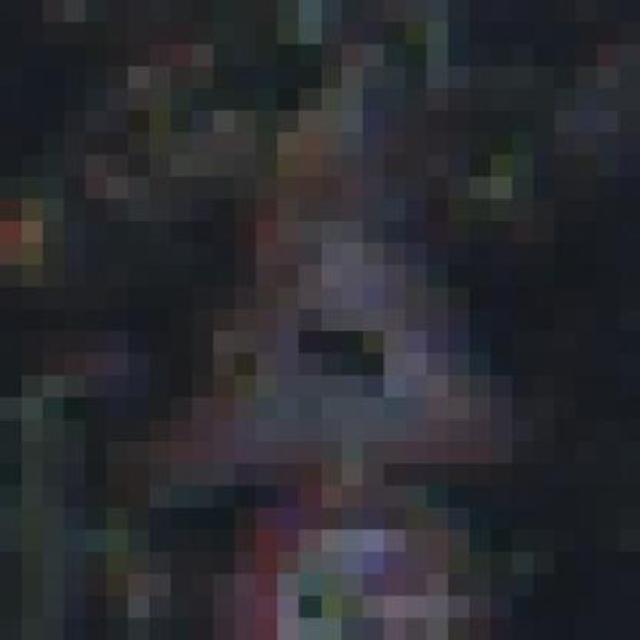Slippery Road Ahead: (128, 110, 534, 530)
